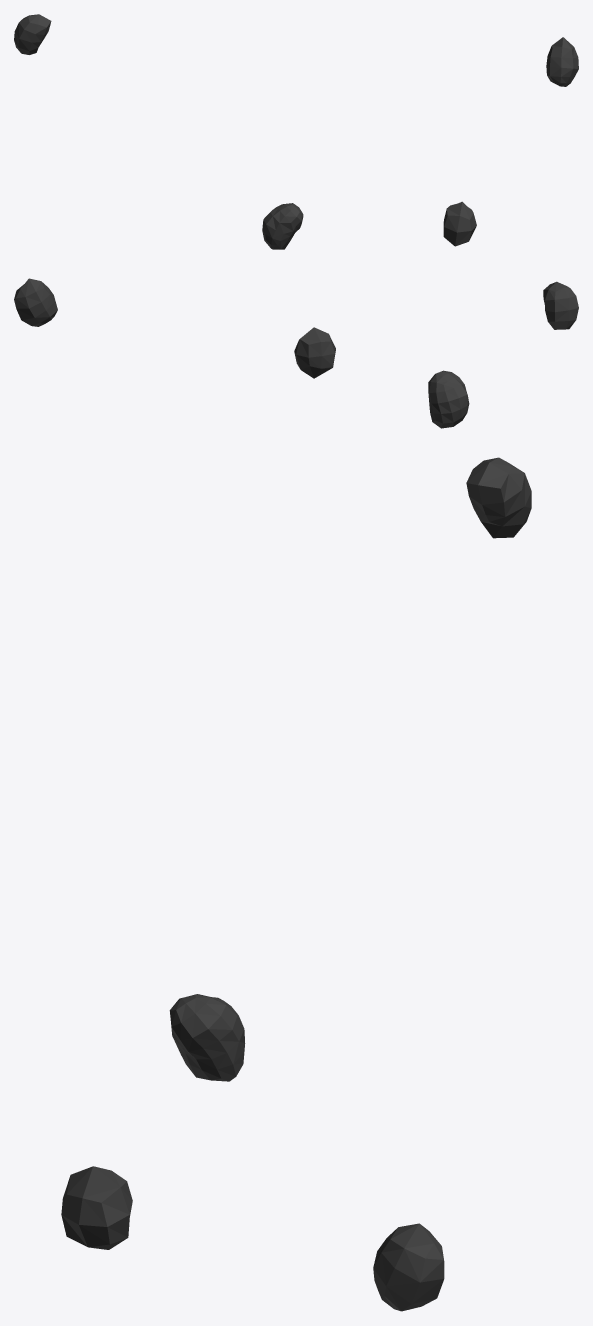
The model's file is Dorsal.glb.
3 views of the same model, one above another, from view 1: azimuth 30°, elevation 25°; view 2: azimuth 150°, elevation 25°; view 3: azimuth 270°, elevation 25° (orthographic). The views are drawn at different scales.
Parts seen in each view (by area): view 1: Dorsal; view 2: Dorsal; view 3: Dorsal.
Boxes of the visible parts, bbox=[...] form: Dorsal: bbox=[14, 14, 578, 249]; Dorsal: bbox=[14, 278, 578, 428]; Dorsal: bbox=[61, 457, 531, 1311].
Size of the model in its own units: 2.02 by 0.8493 by 0.7618.
Materials: 1 (1 with a texture image).
